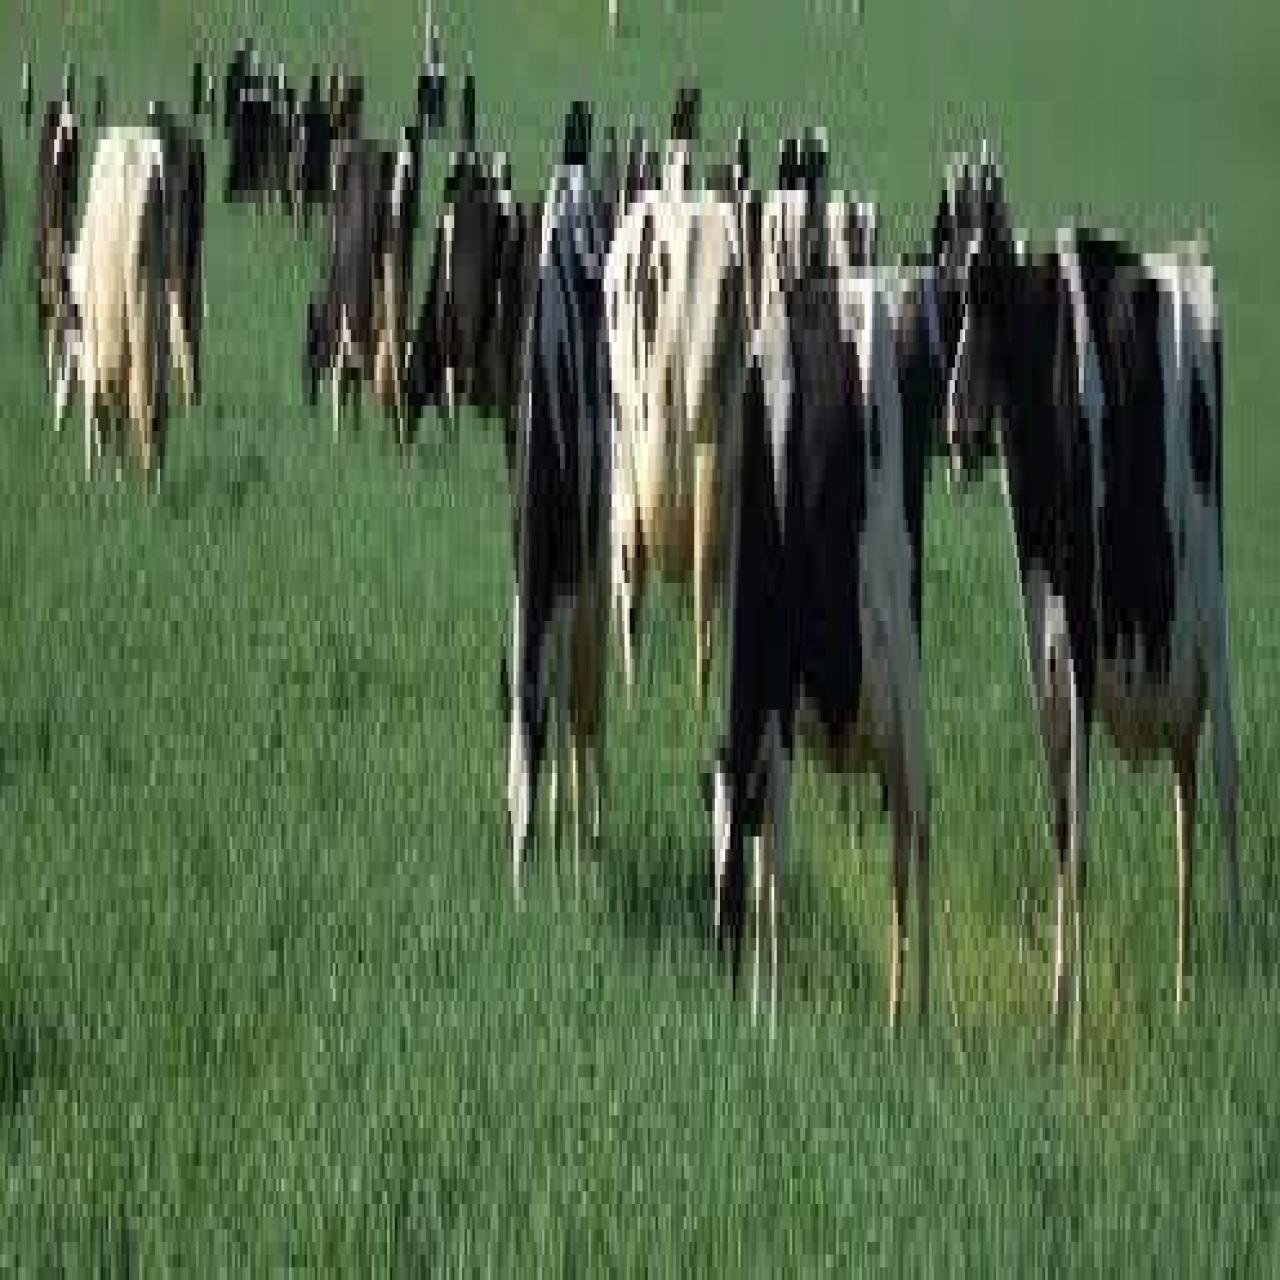cow: (946, 184, 1242, 1083), (700, 285, 934, 1058), (497, 145, 615, 945), (600, 177, 747, 735), (45, 102, 168, 519), (299, 127, 417, 456), (402, 145, 513, 475), (143, 95, 213, 437), (741, 171, 816, 349), (927, 145, 985, 285), (813, 171, 881, 285), (624, 108, 693, 210), (777, 108, 831, 196), (730, 108, 754, 222)
